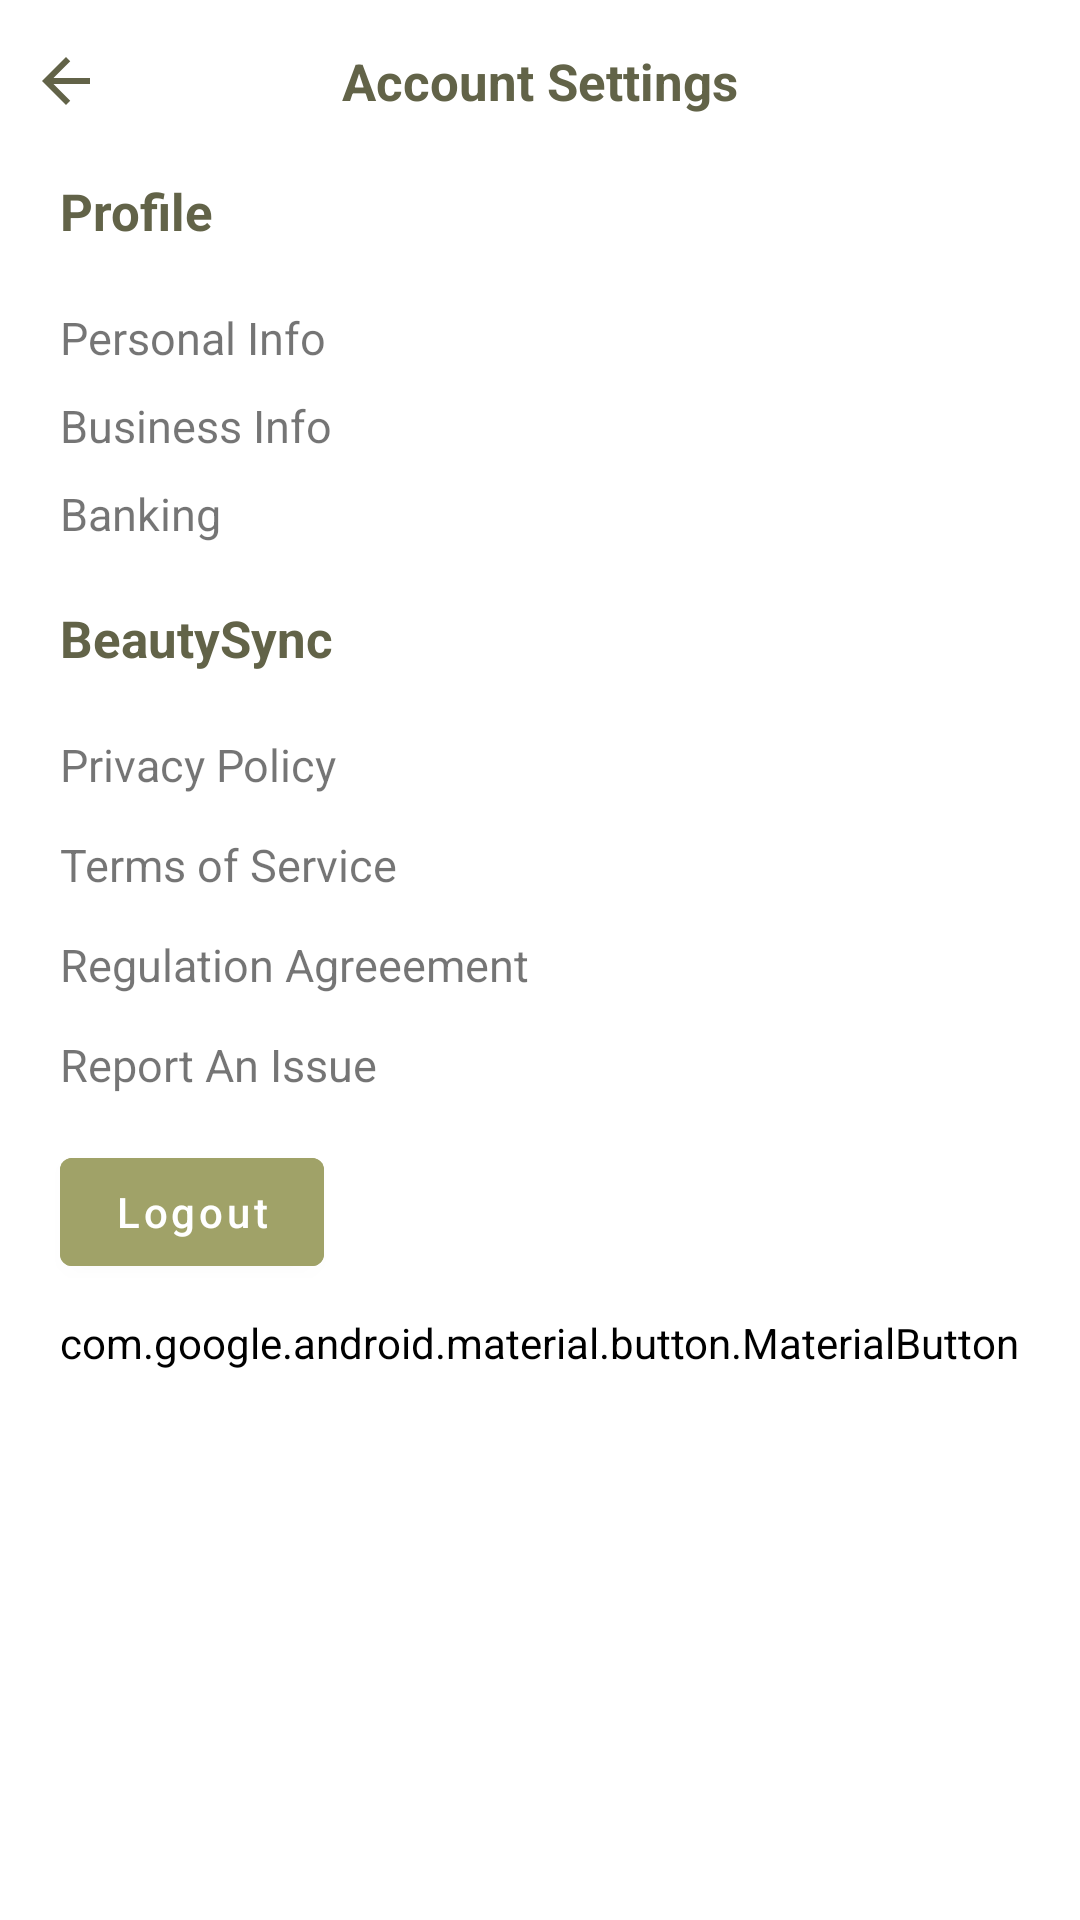

Icons on this 1080×1920 Android screen, each with its box as (x1, y1, x2, y2):
Back Arrow: (42, 57, 90, 105)
